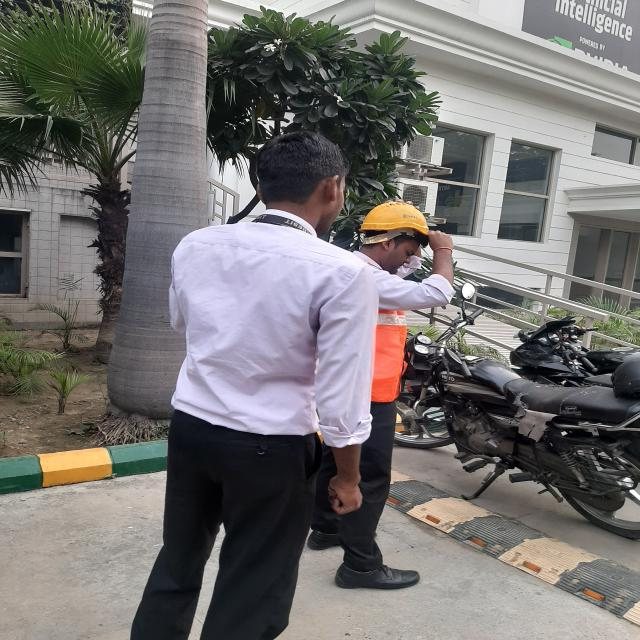unsafe: (157, 133, 366, 640)
